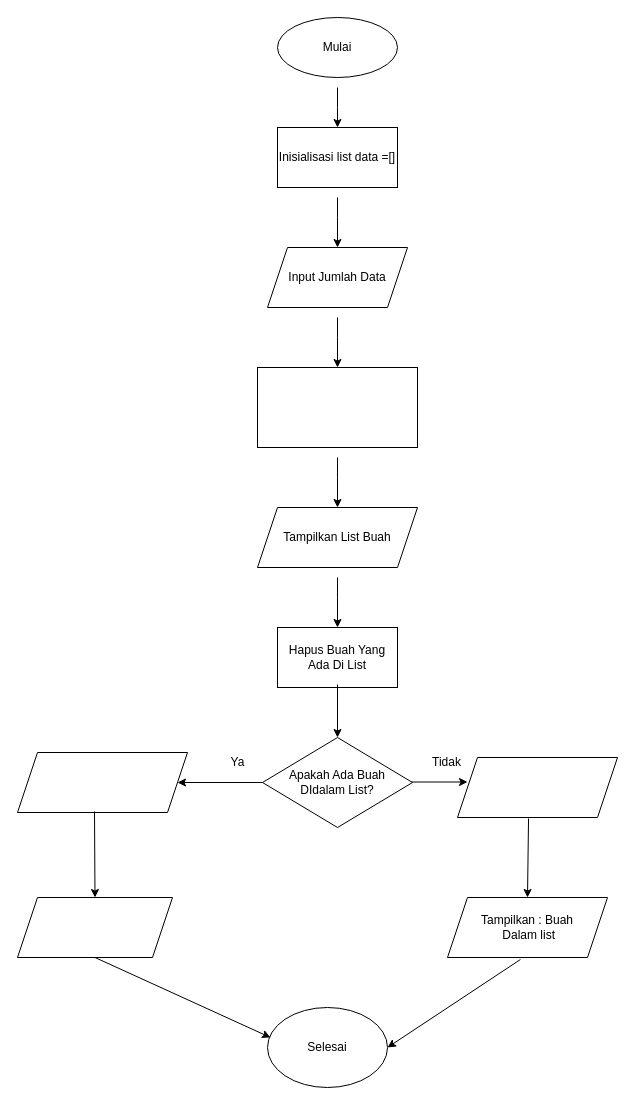
This 635x1105 diagram has some shape labels left out. The shapes that lost their labels are listed below. From the top down, each one's box as (x1, y1, x2, y2) in pixels, then its label:
(256, 366, 418, 448): Perulangan sebanyak N: -Input nama buah -Input ke List data
(16, 752, 188, 812): Tampilkan : Buah [ ] Berhasil Dihapus
(456, 756, 618, 818): Tampilkan : Buah Tidak Di Temukan
(16, 896, 172, 958): Tampilkan : Buah Dalam List Setelah Dihapus
